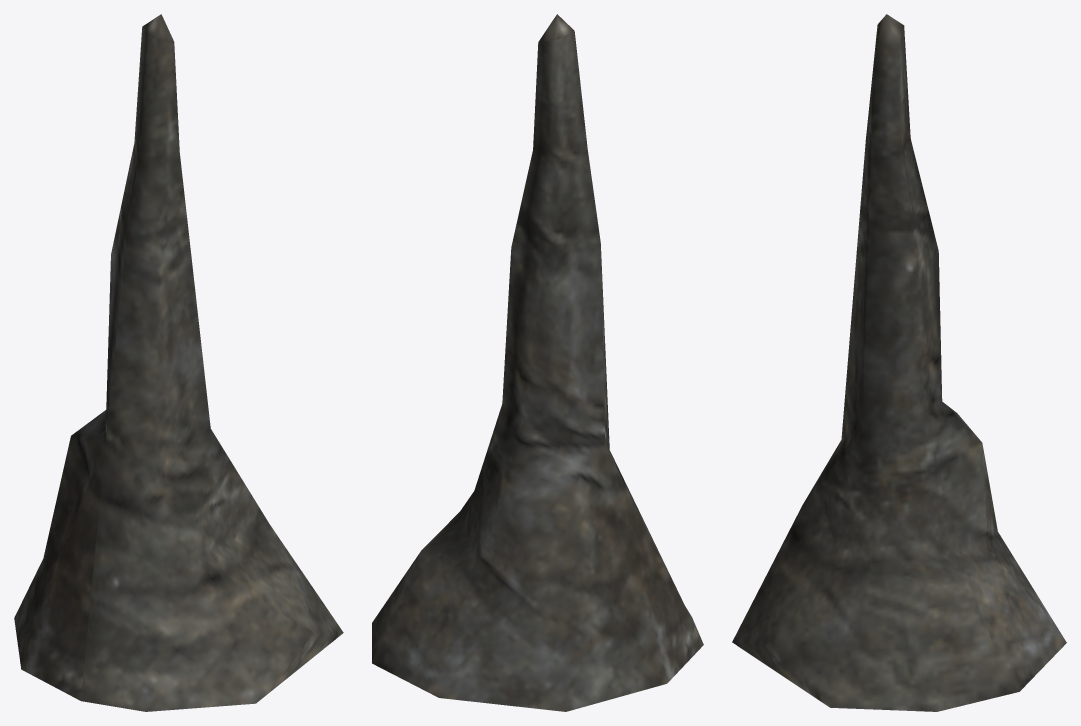
File: Stal4.fbx
3 views of the same model, side by side, from view 1: azimuth 30°, elevation 25°; view 2: azimuth 150°, elevation 25°; view 3: azimuth 270°, elevation 25° (orthographic). The views are drawn at different scales.
Parts seen in each view (by area): view 1: Stal2_polySurface15; view 2: Stal2_polySurface15; view 3: Stal2_polySurface15.
Part boxes in pixels (<box>): Stal2_polySurface15: <box>14,14,343,711</box>; Stal2_polySurface15: <box>372,14,703,711</box>; Stal2_polySurface15: <box>732,14,1066,711</box>.
Size of the model in its own units: 0.8219 by 1.74 by 0.8504.
